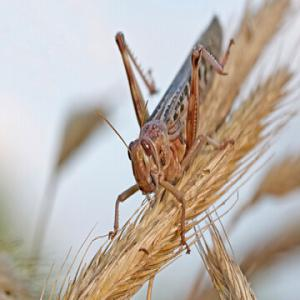locust: (111, 17, 243, 216)
